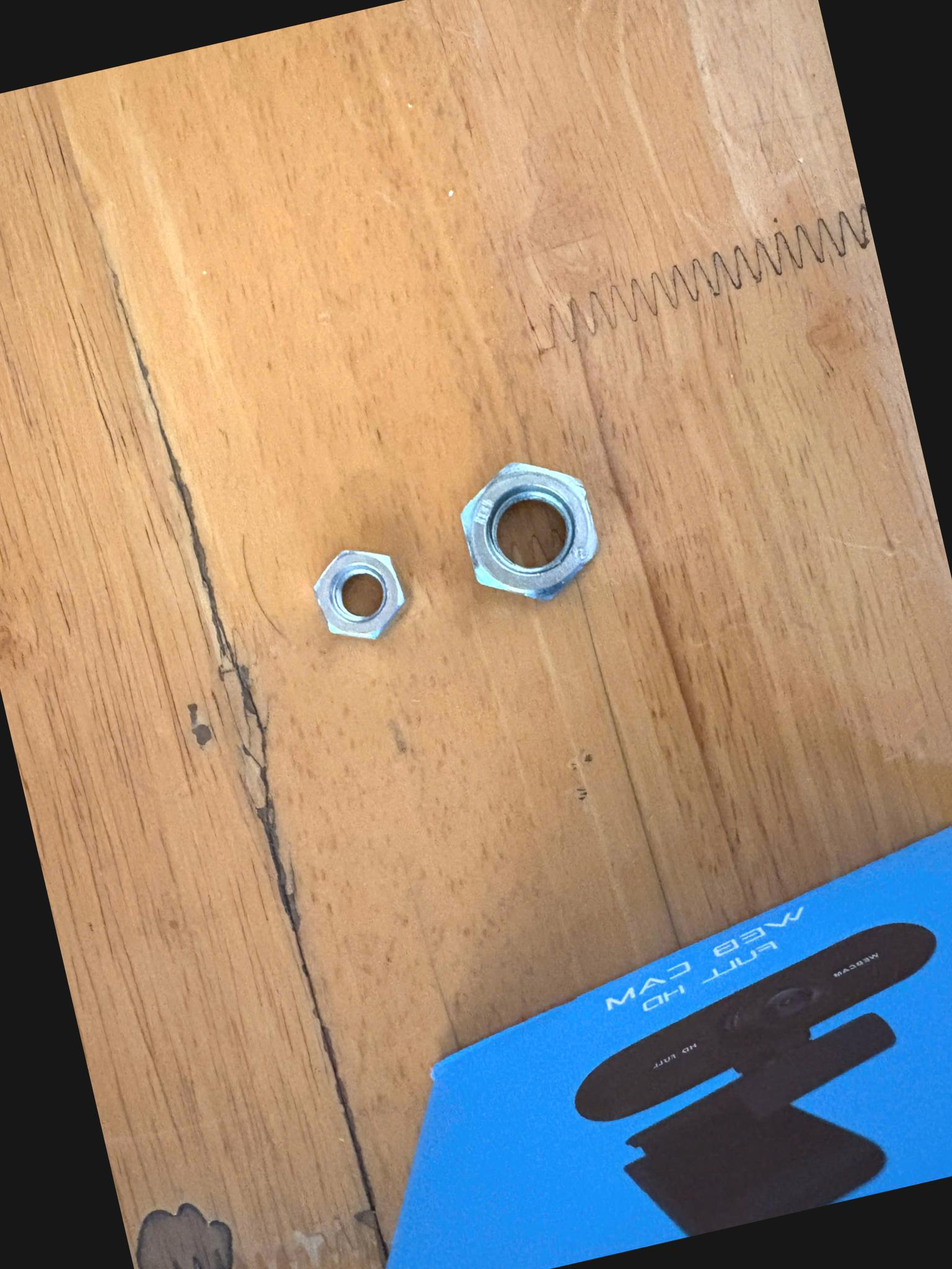nut: (425, 427, 637, 645), (277, 528, 439, 678)
